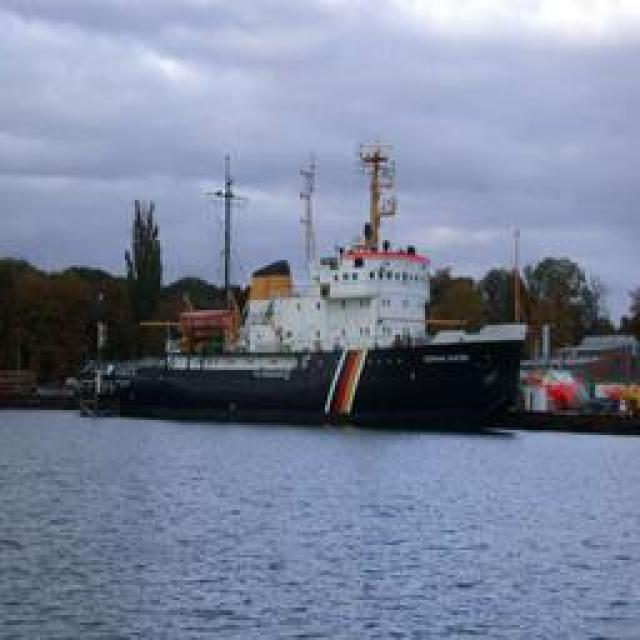CIV_Ship: (106, 132, 526, 416)
